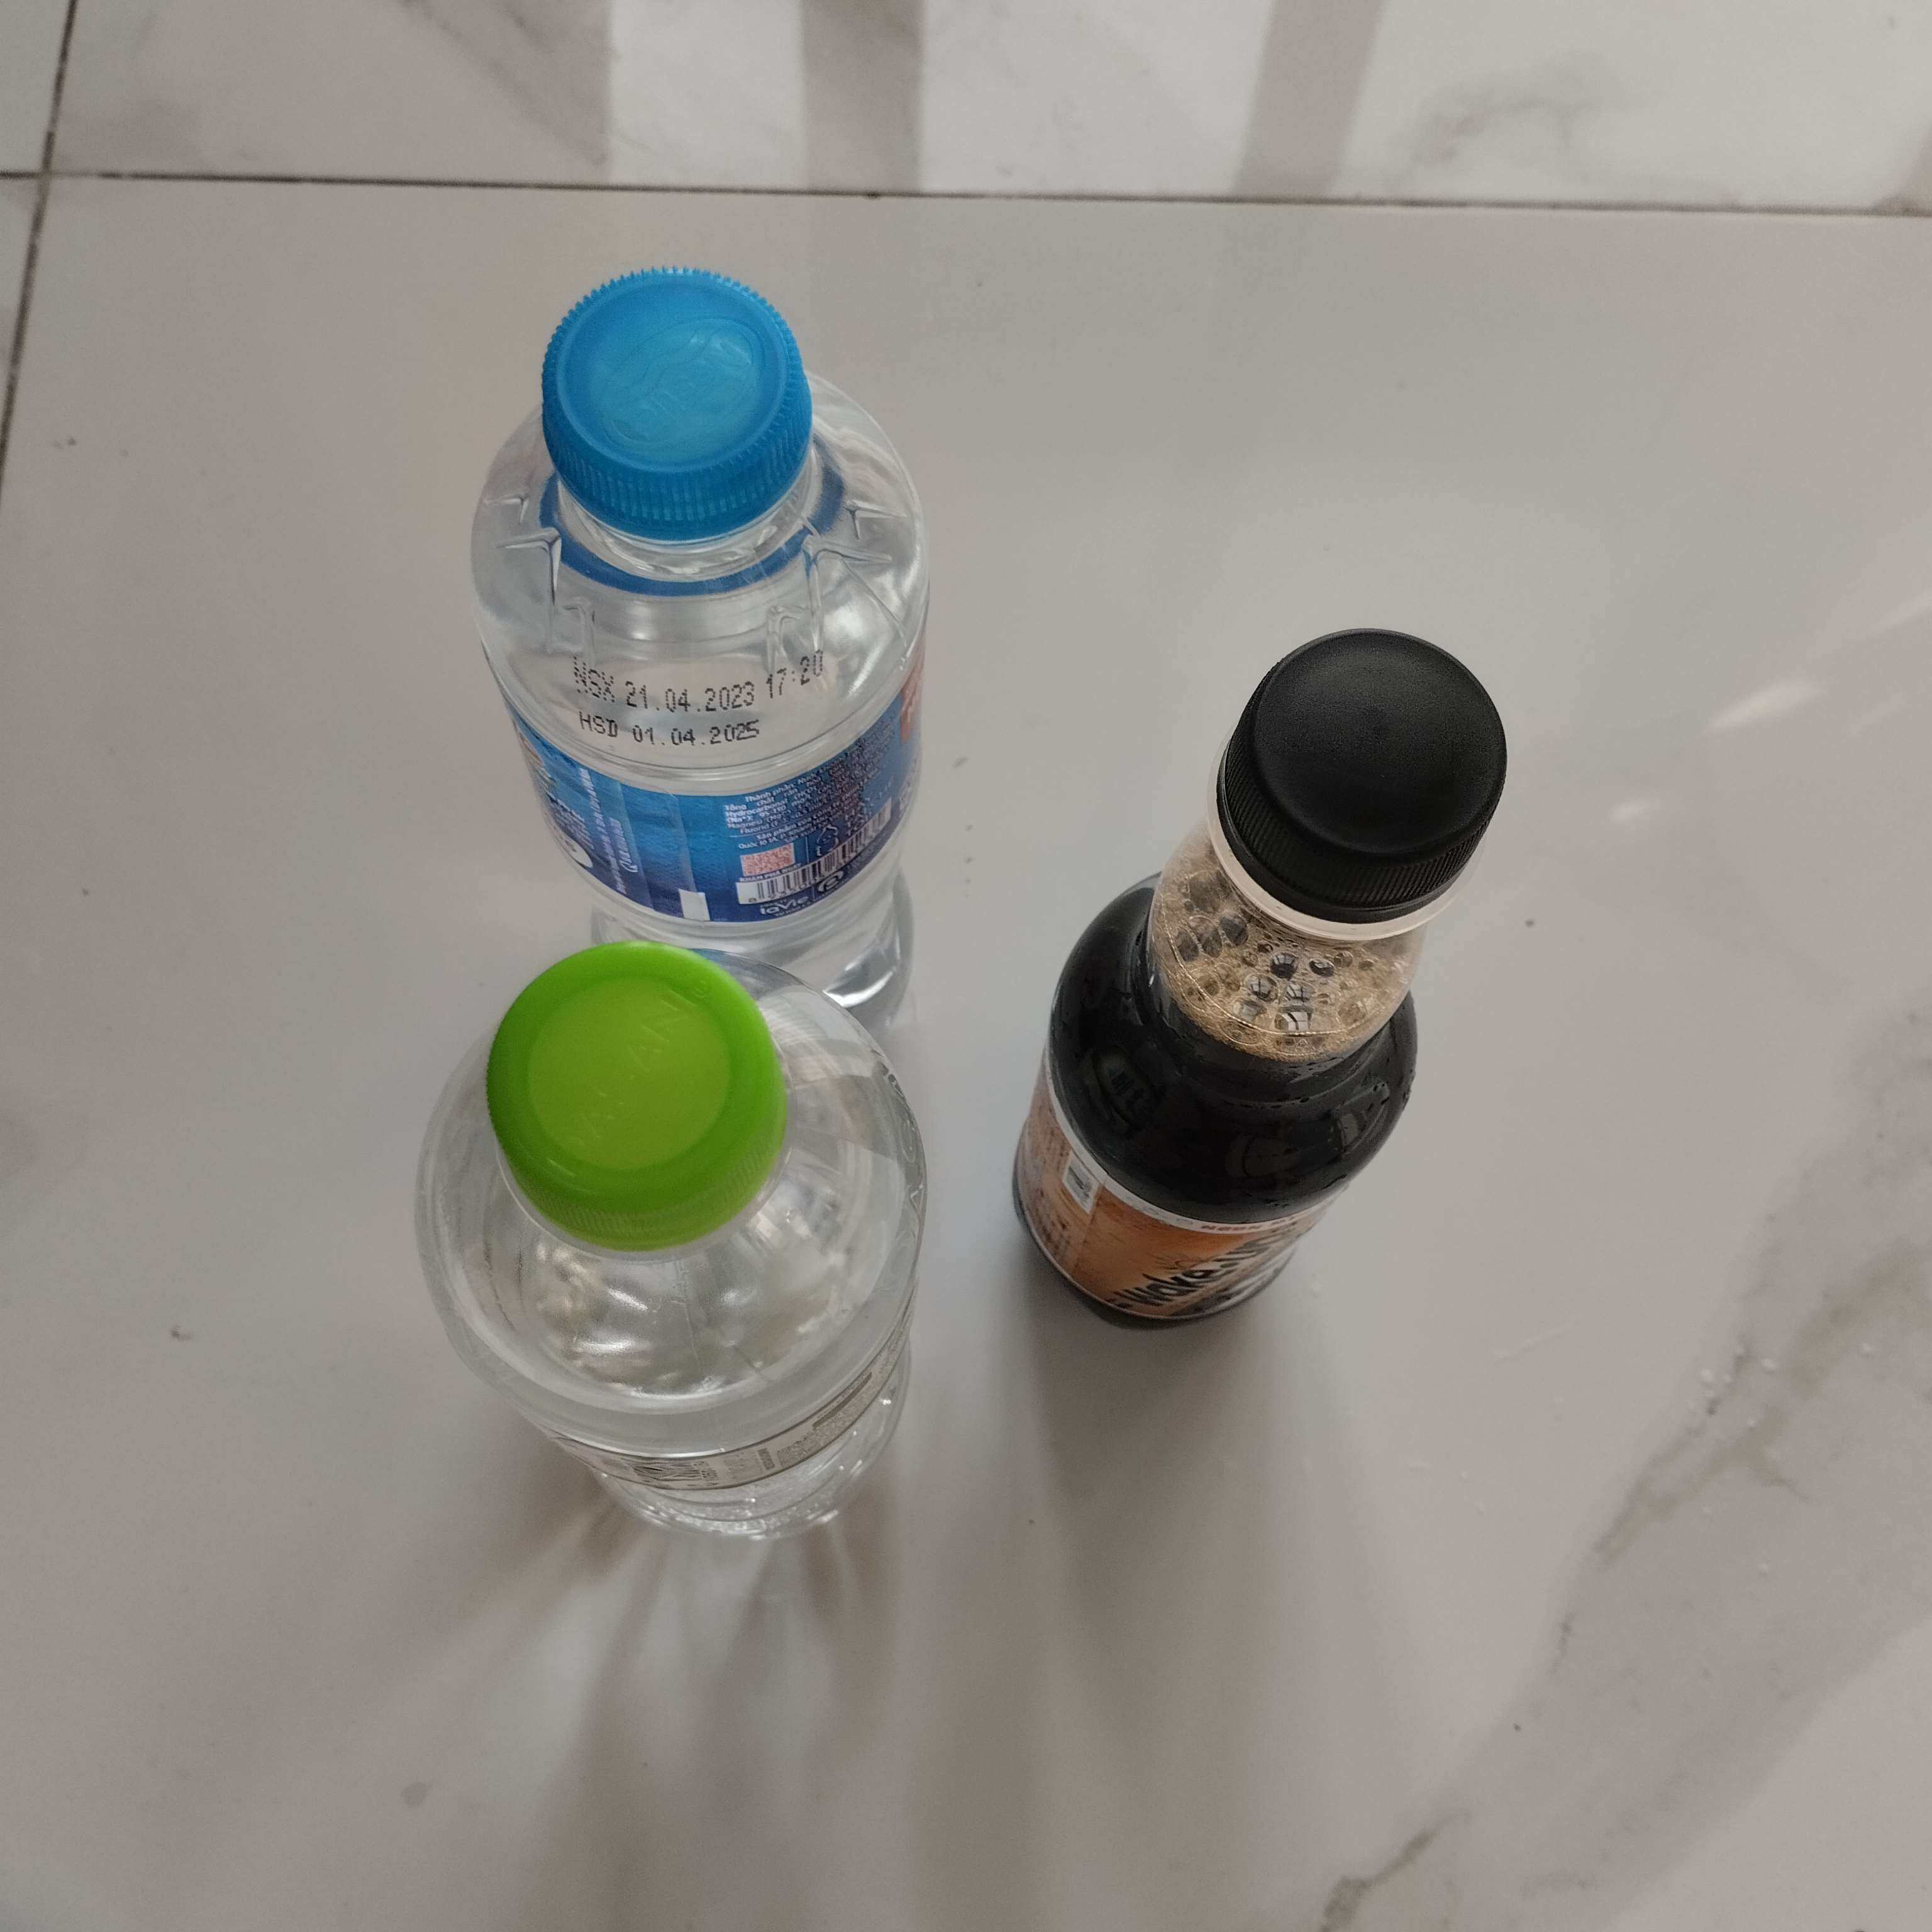247: (1014, 617, 1507, 1385)
Dasani: (412, 939, 936, 1559)
Lavie: (464, 262, 978, 1026)
